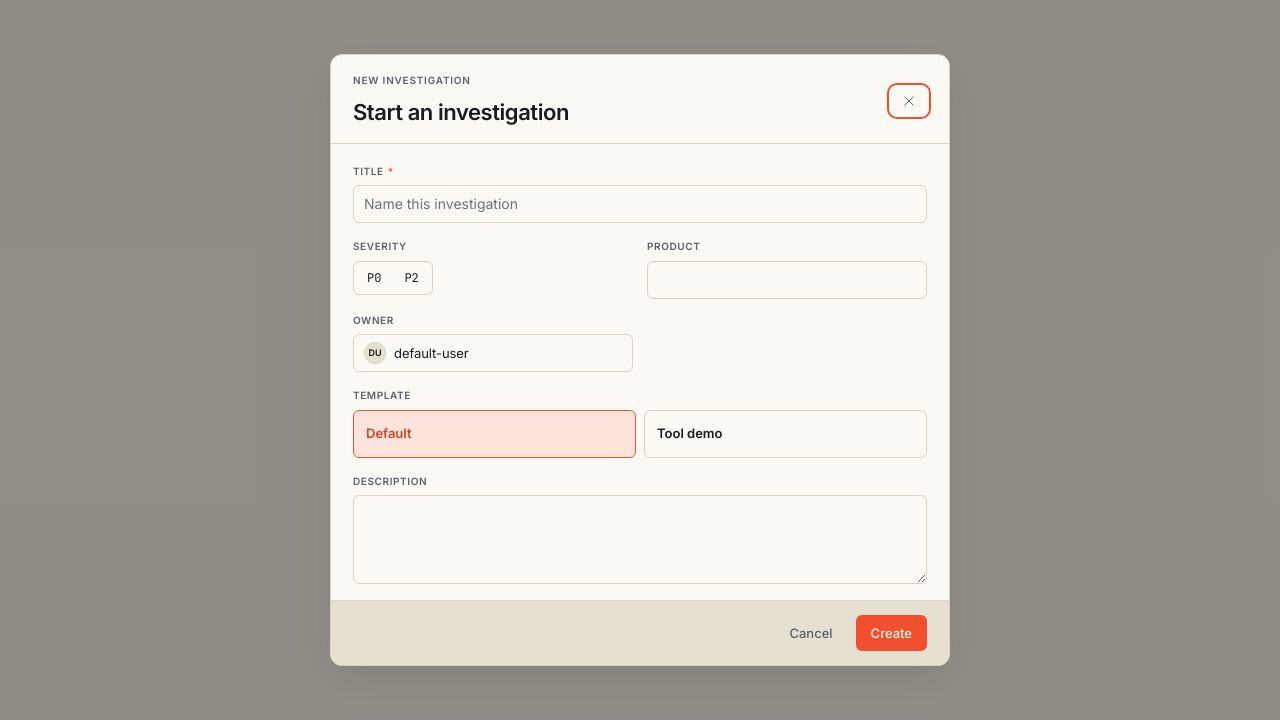
Scenario: AppNewItem › surfaces a create failure instead of silently doing nothing
In the field named "title": coordinates (640, 204) top-left (353, 185), bottom-right (927, 223), type "Oven drift"
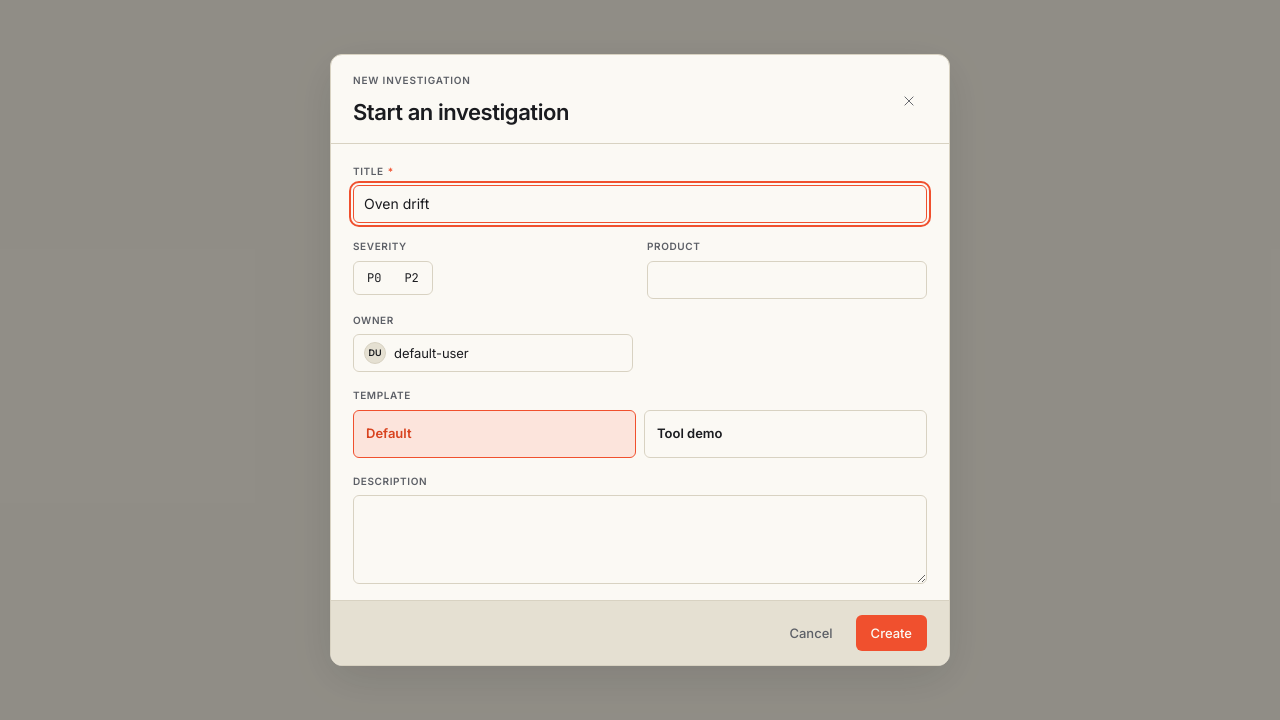
Click the button "Create": coordinates (891, 633) top-left (856, 615), bottom-right (927, 651)
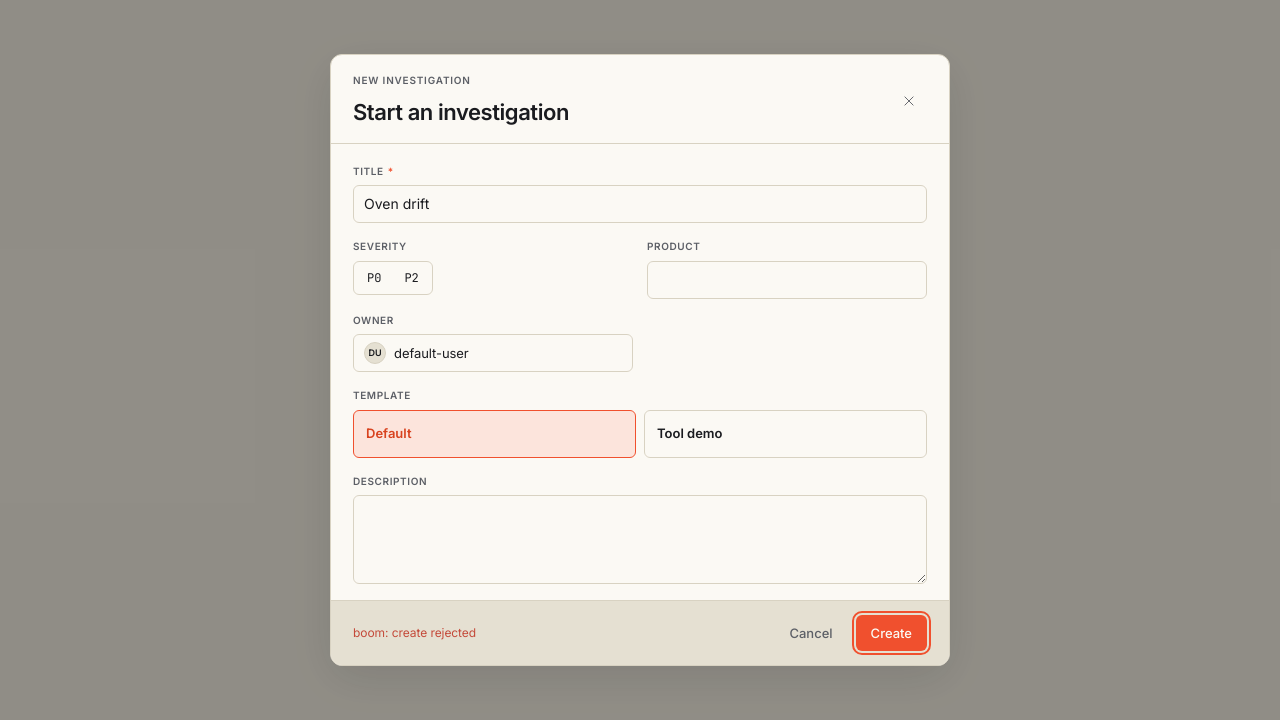
Result: the message reads "boom: create rejected" at top-left (353, 625), bottom-right (476, 640)
